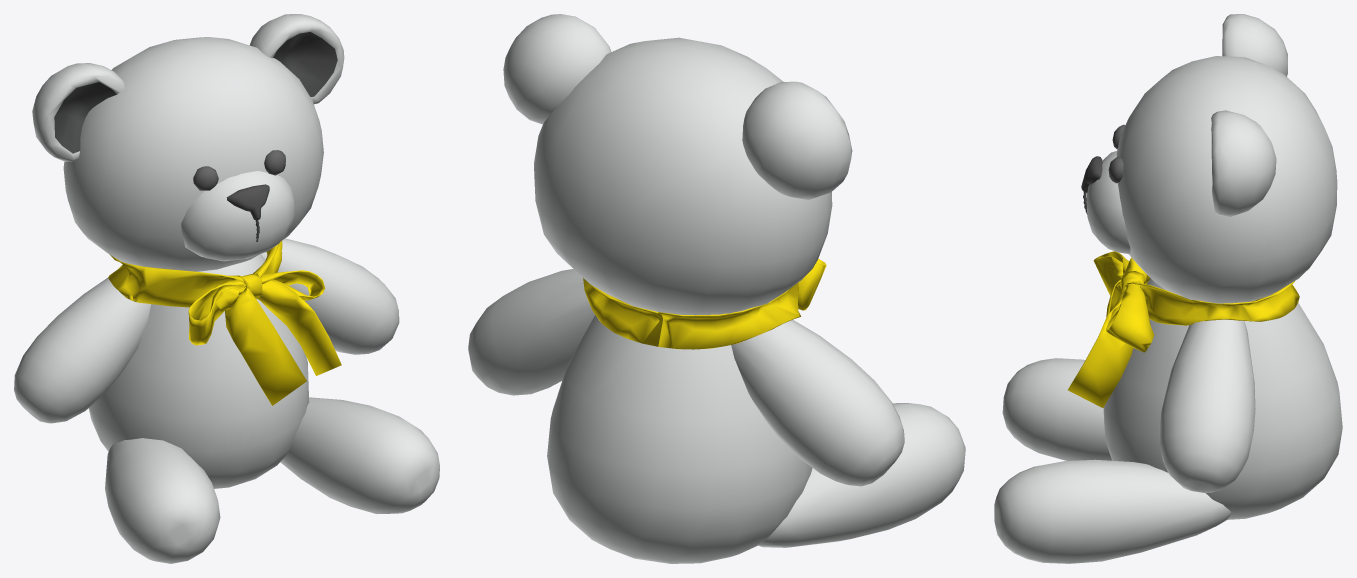
File: ModernToy.fbx
3 renders of one model, left to right at view 1: azimuth 30°, elevation 25°; view 2: azimuth 150°, elevation 25°; view 3: azimuth 270°, elevation 25°, orthographic. The views are drawn at different scales.
Parts seen in each view (by area): view 1: bow_bear; view 2: bow_bear; view 3: bow_bear.
Boxes of the visible parts, bbox=[...] form: bow_bear: bbox=[14, 14, 439, 563]; bow_bear: bbox=[468, 14, 965, 563]; bow_bear: bbox=[994, 14, 1342, 563].
Size of the model in its own units: 3.16 by 3.54 by 2.53.
Materials: 1 (1 with a texture image).
